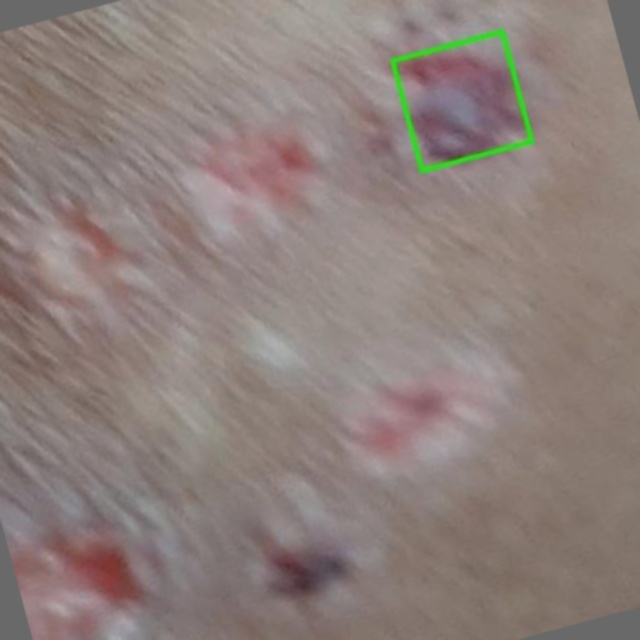Eczema: (392, 31, 532, 170)
